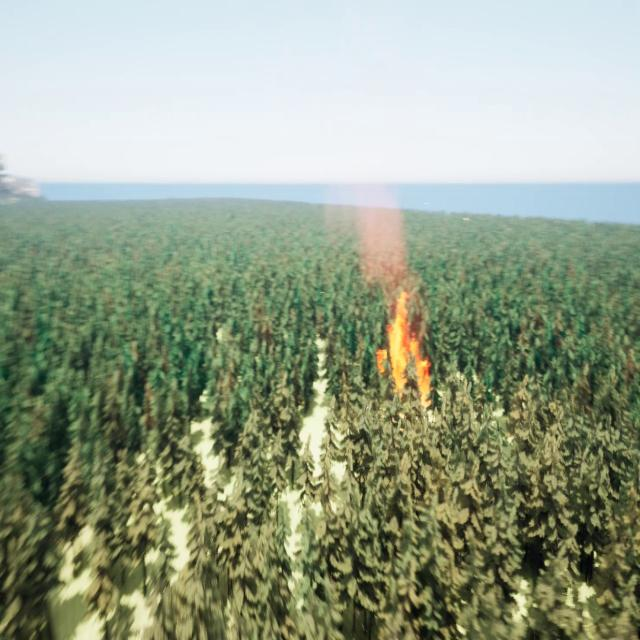fire: (376, 291, 433, 408)
smoke: (352, 187, 421, 288)
